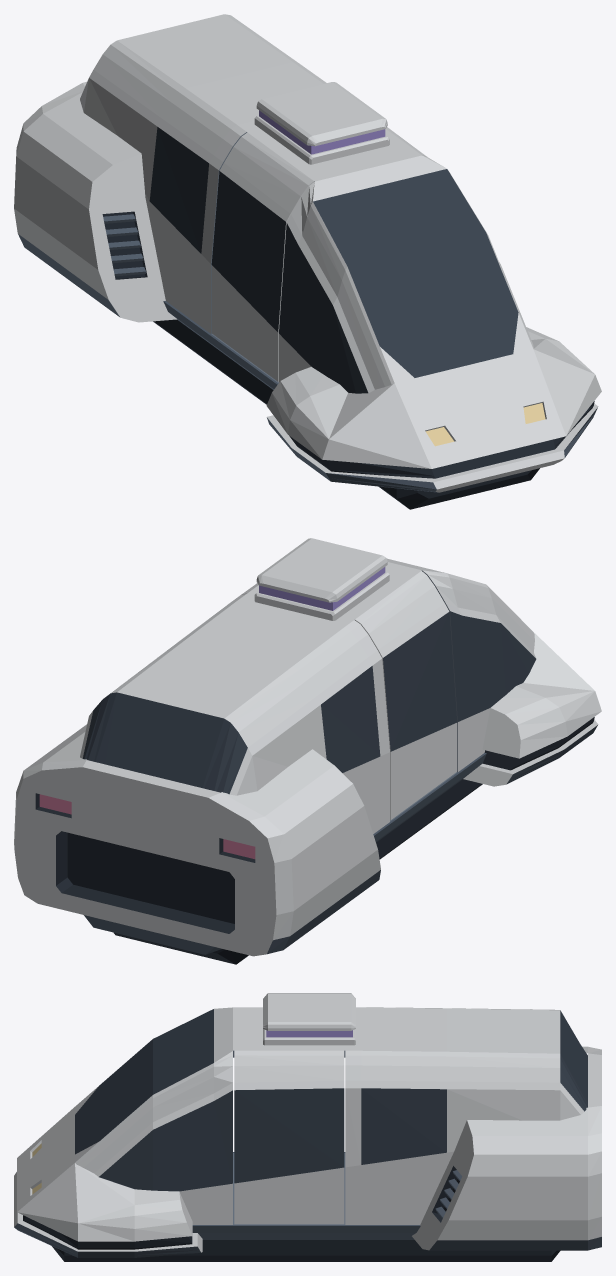
Rendered from security-patrol-cruiser-b40d27.glb.
3 views of the same model, one above another, from view 1: azimuth 30°, elevation 25°; view 2: azimuth 150°, elevation 25°; view 3: azimuth 270°, elevation 25° (orthographic). The views are drawn at different scales.
Visible parts, largest first — view 1: cruiser-body, door-l-panel; view 2: cruiser-body, door-l-panel; view 3: cruiser-body, door-r-panel.
Part boxes in pixels (left/top/right/bottom): cruiser-body: left=14, top=14, right=601, bottom=509; door-l-panel: left=211, top=132, right=313, bottom=381; cruiser-body: left=14, top=538, right=601, bottom=964; door-l-panel: left=355, top=571, right=457, bottom=820; cruiser-body: left=14, top=993, right=601, bottom=1261; door-r-panel: left=234, top=1050, right=344, bottom=1224.
Size of the model in its own units: 2.5 by 2.37 by 5.5.
